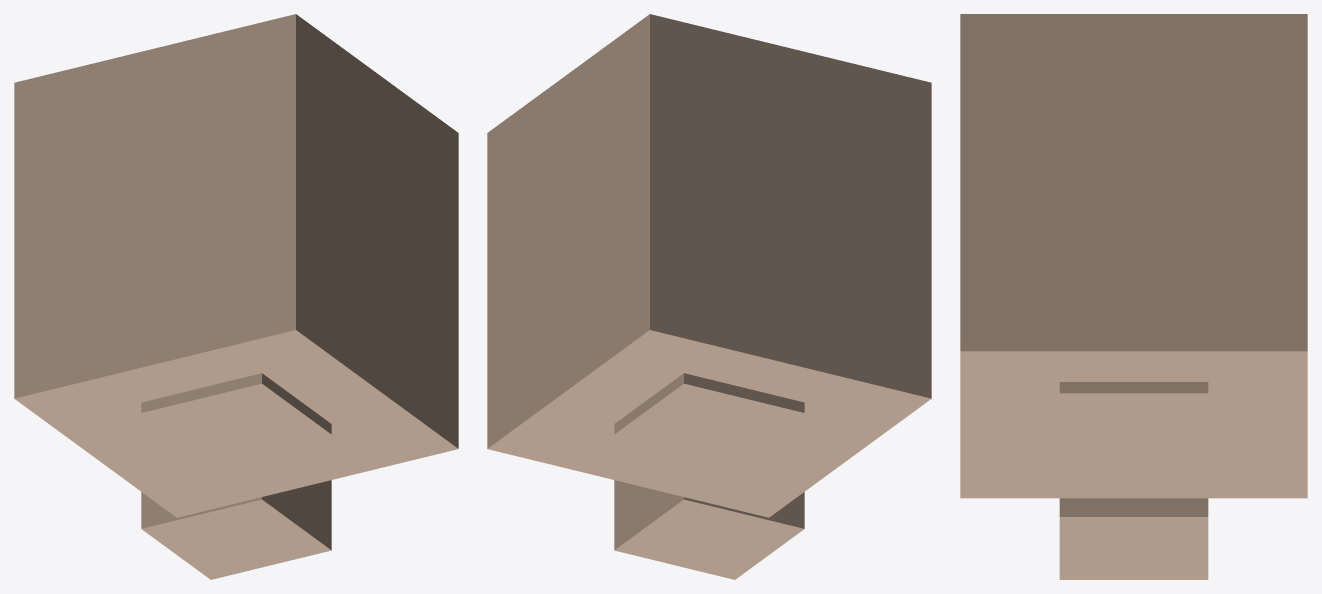
Rendered from head_m_02.glb.
3 views of the same model, side by side, from view 1: azimuth 30°, elevation 25°; view 2: azimuth 150°, elevation 25°; view 3: azimuth 270°, elevation 25° (orthographic). The views are drawn at different scales.
Visible parts, largest first — view 1: Part; view 2: Part; view 3: Part.
Part boxes in pixels (left/top/right/bottom): Part: left=14, top=14, right=458, bottom=579; Part: left=487, top=14, right=931, bottom=579; Part: left=960, top=14, right=1307, bottom=579.
Bounding box in the file's own units: 0.28 × 0.41 × 0.28.
